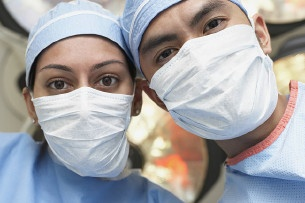Mask: (35, 56, 148, 170)
